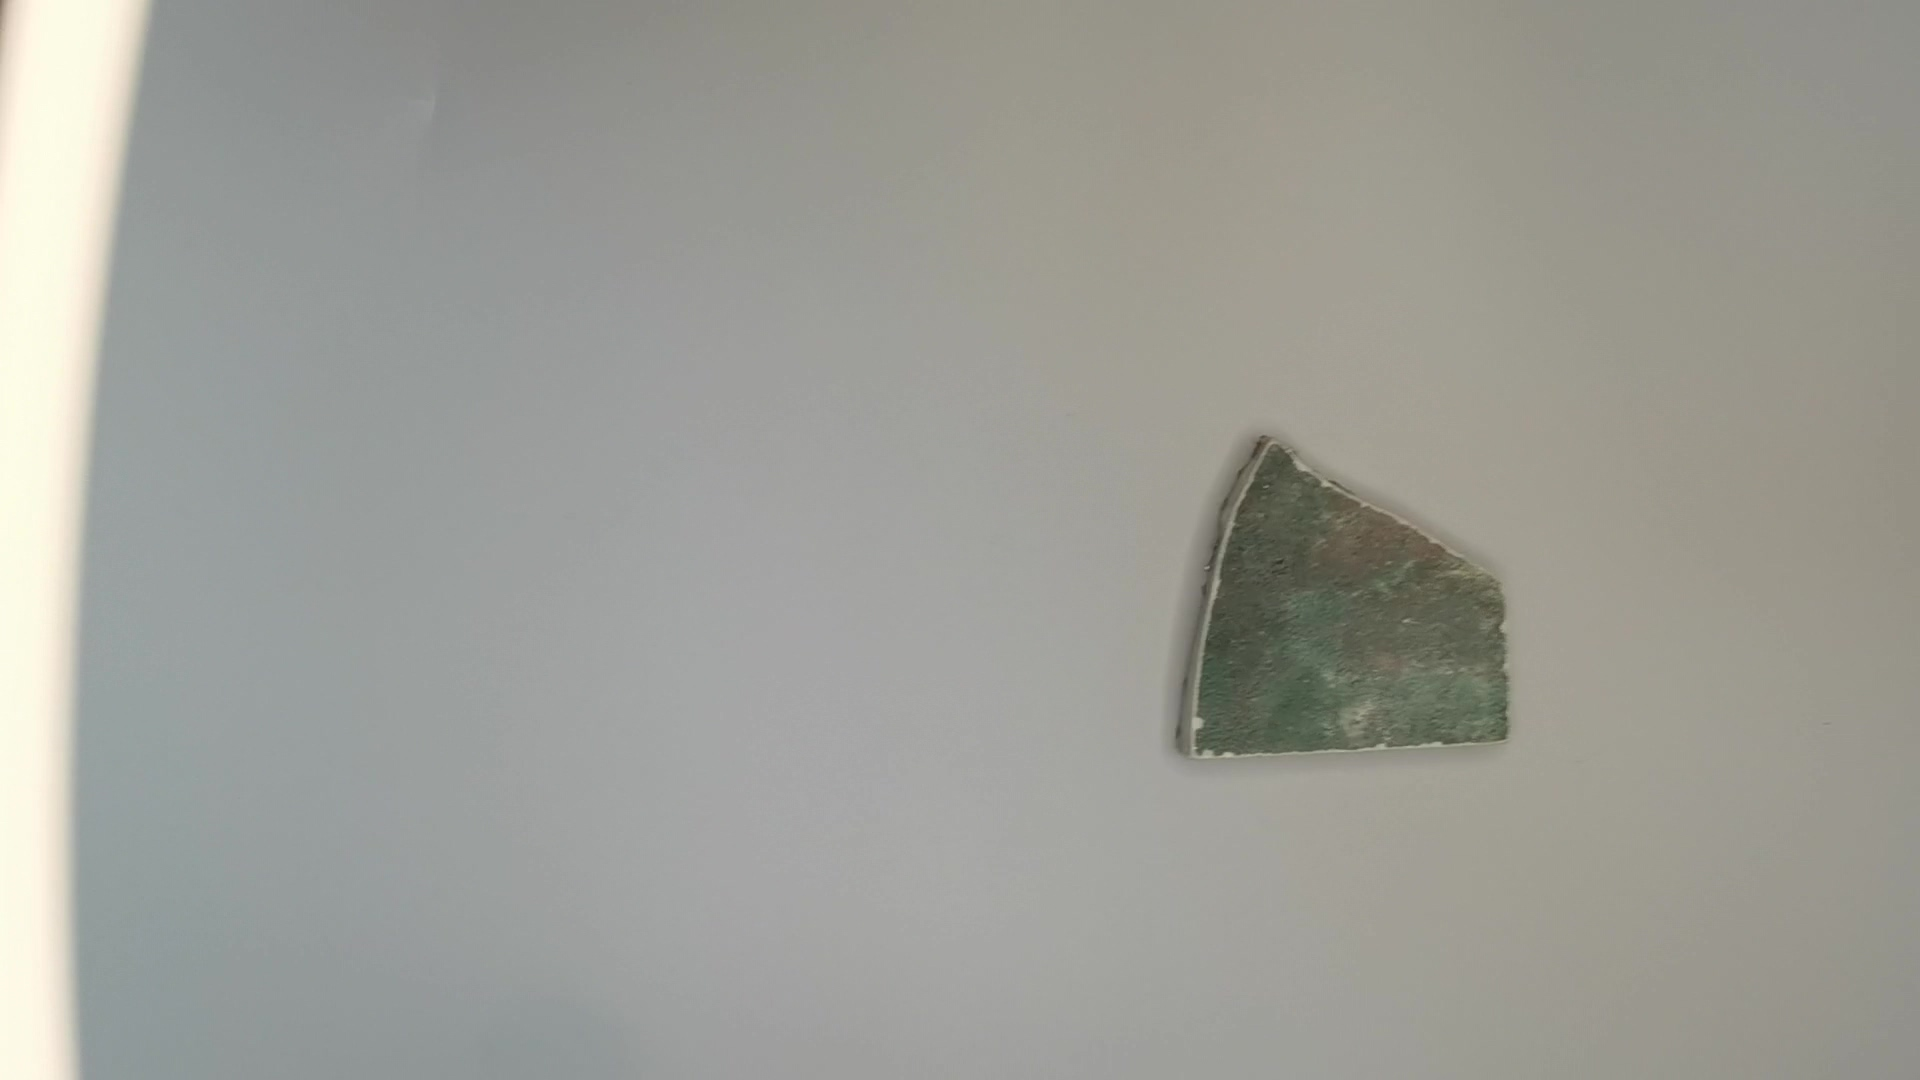ceramic: (1164, 429, 1516, 758)
